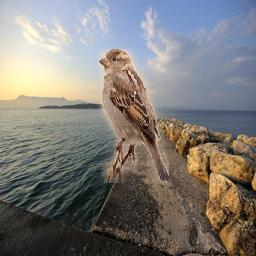Sparrow: (99, 49, 170, 183)
